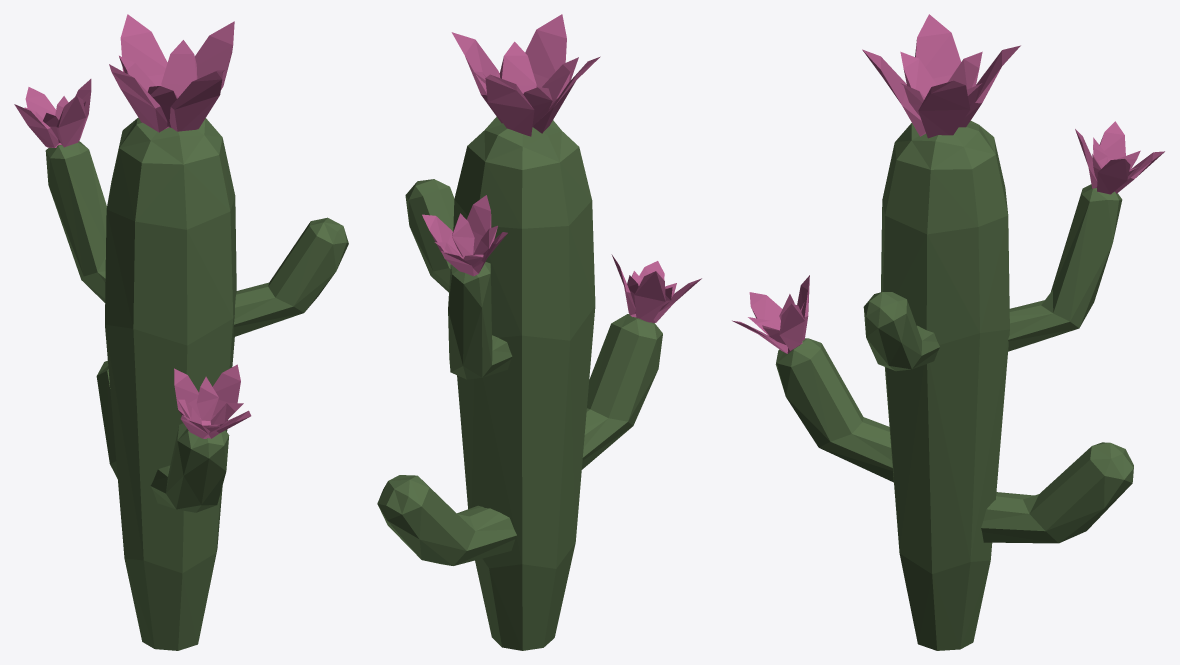
Rendered from CactusFlowers_2.lod1.glb.
3 views of the same model, side by side, from view 1: azimuth 30°, elevation 25°; view 2: azimuth 150°, elevation 25°; view 3: azimuth 270°, elevation 25° (orthographic).
Parts seen in each view (by area): view 1: CactusFlowers_2; view 2: CactusFlowers_2; view 3: CactusFlowers_2.
Part boxes in pixels (box(x1,y1,x2,y2)): CactusFlowers_2: box(14, 14, 348, 650); CactusFlowers_2: box(377, 14, 701, 650); CactusFlowers_2: box(732, 14, 1164, 650).
Bounding box in the file's own units: 0.7599 × 1.93 × 1.27.
